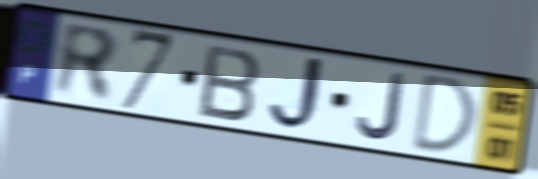7: (118, 26, 179, 113)
B: (196, 41, 263, 125)
D: (408, 70, 480, 156)
J: (266, 54, 334, 134), (354, 71, 408, 145)
R: (52, 18, 121, 107)
